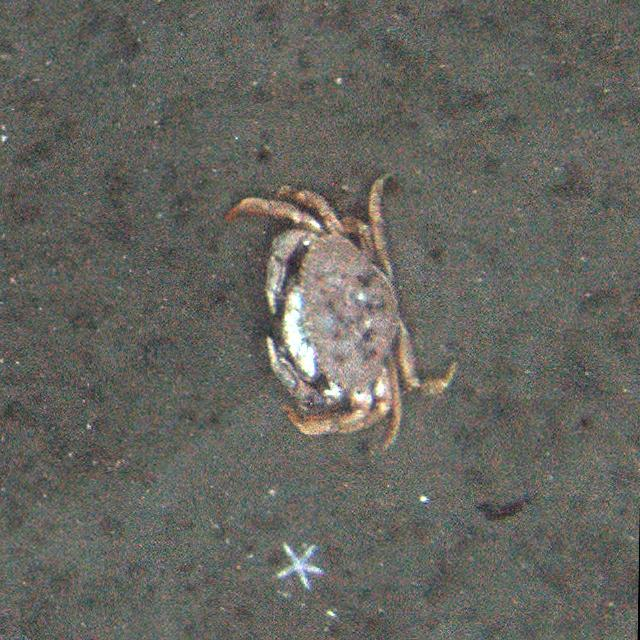crab: (229, 166, 458, 452)
